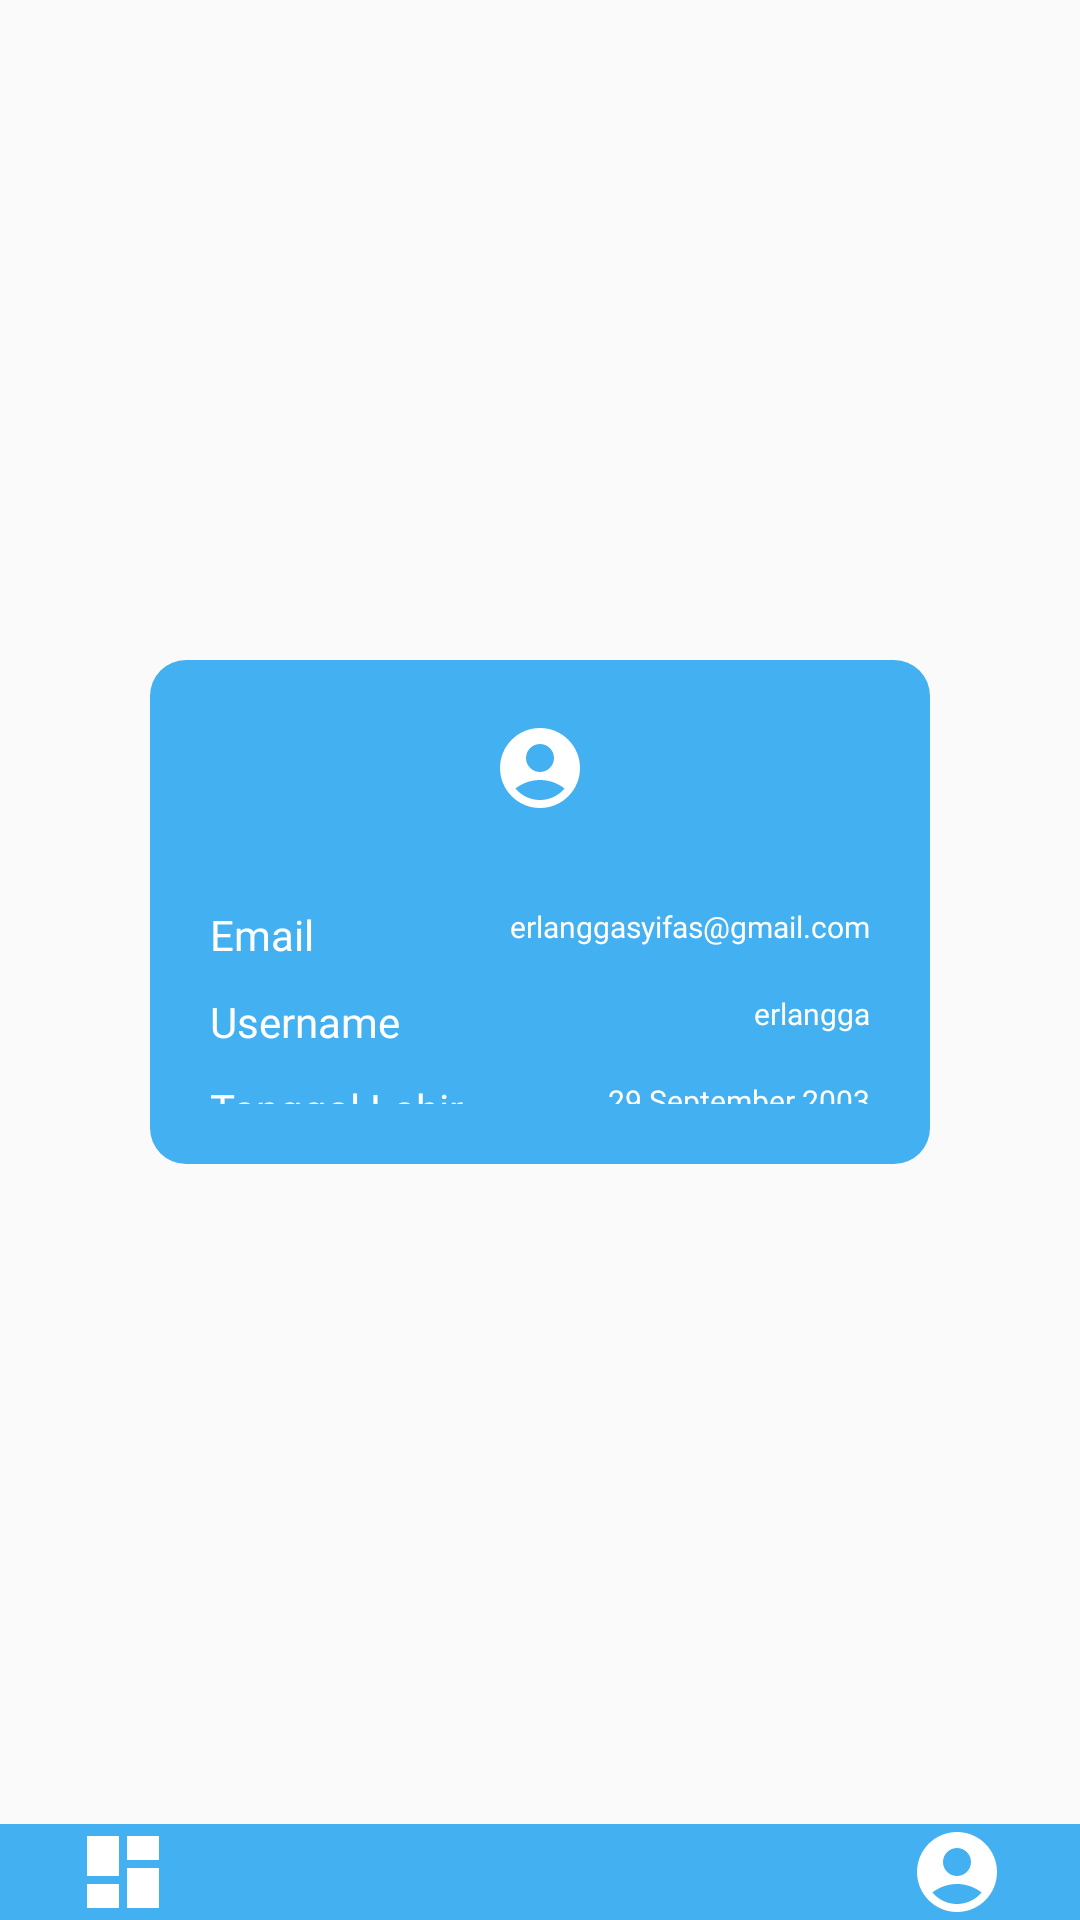

Screen size 1080px x 1920px. Icon name, then its box in pixels as {"x1": x1, "y1": y1, "x2": x2, "y2": y2}:
account circle: {"x1": 500, "y1": 728, "x2": 580, "y2": 808}, {"x1": 917, "y1": 1832, "x2": 997, "y2": 1912}
dashboard: {"x1": 87, "y1": 1836, "x2": 159, "y2": 1908}
